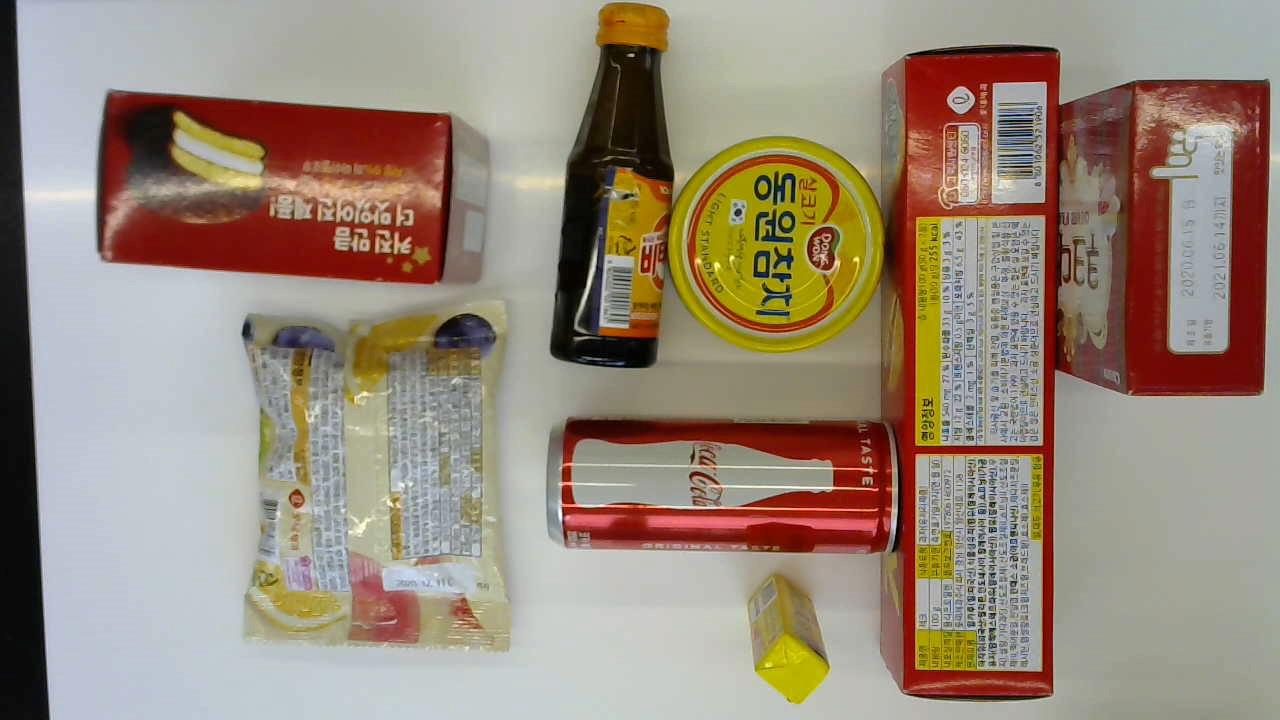chocopie: (93, 86, 493, 284)
coke: (543, 414, 899, 556)
couque_white: (1056, 76, 1270, 389)
gumi_gumi: (240, 298, 510, 655)
juicyfresh: (755, 569, 827, 703)
tuna: (669, 132, 886, 341)
vita500: (552, 2, 672, 374)
zec: (881, 43, 1060, 698)
